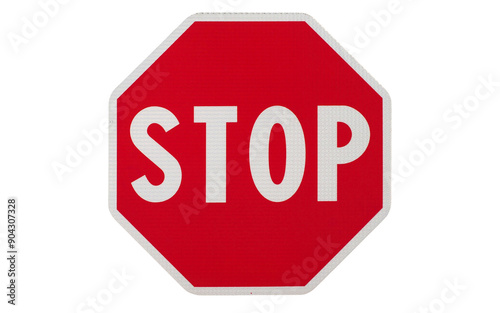StopSign: (107, 12, 390, 294)
